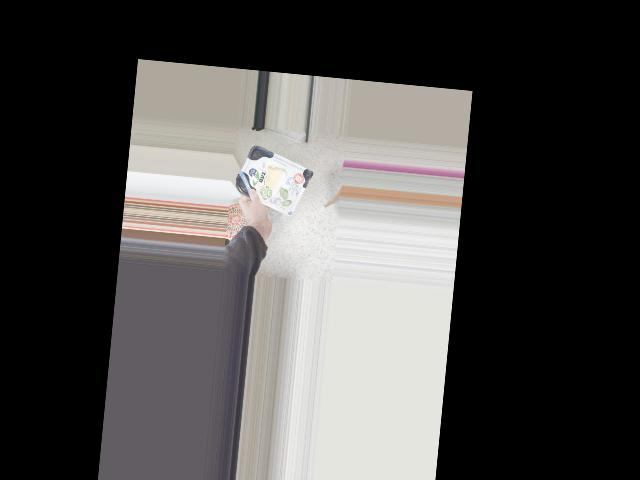cheese: (242, 157, 306, 210)
